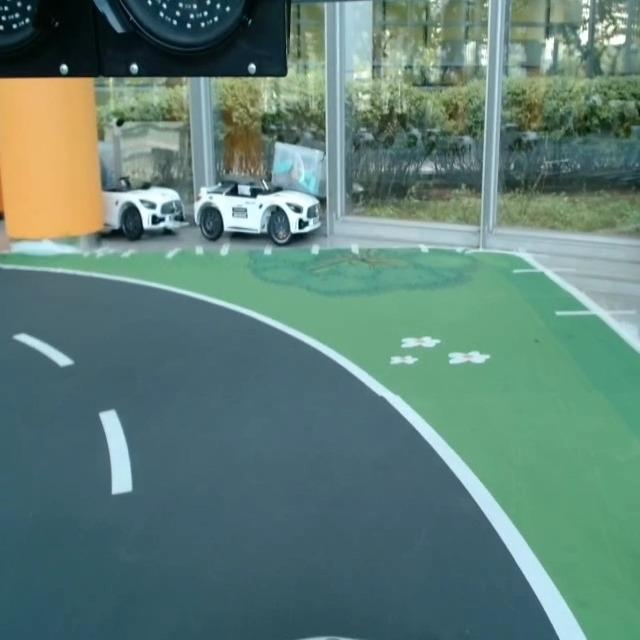traffic-light: (0, 0, 292, 78)
